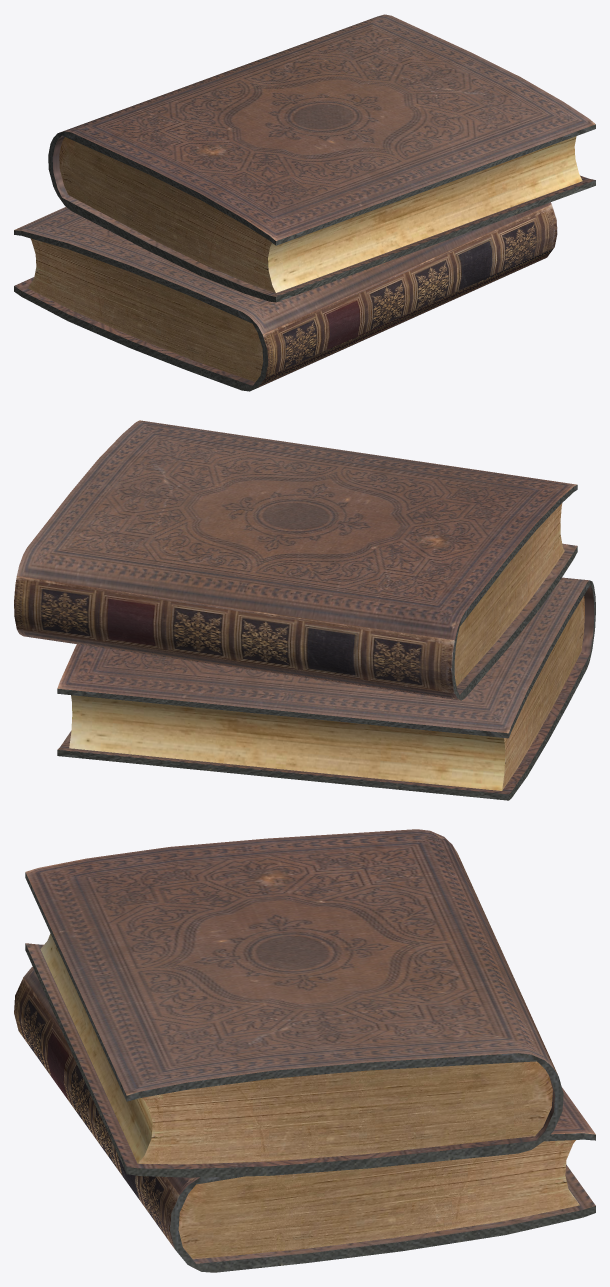
Rendered from Books2.fbx.
The picture shows the model from 3 angles, top to bottom: view 1: azimuth 30°, elevation 25°; view 2: azimuth 150°, elevation 25°; view 3: azimuth 270°, elevation 25°; orthographic projection. The views are drawn at different scales.
Parts seen in each view (by area): view 1: books4; view 2: books4; view 3: books4.
Boxes of the visible parts, bbox=[...] form: books4: bbox=[14, 14, 595, 391]; books4: bbox=[14, 420, 595, 800]; books4: bbox=[14, 829, 595, 1272].
Bounding box in the file's own units: 41.06 × 14.21 × 35.3.
